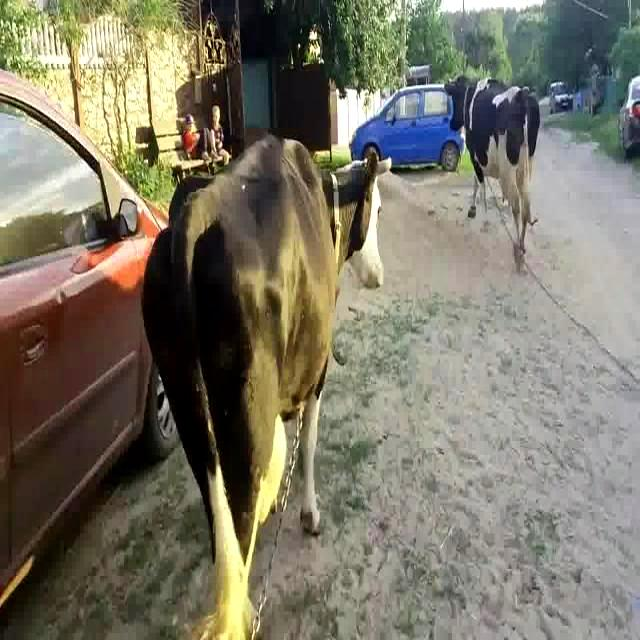COW: (144, 136, 390, 640), (445, 76, 540, 269)
